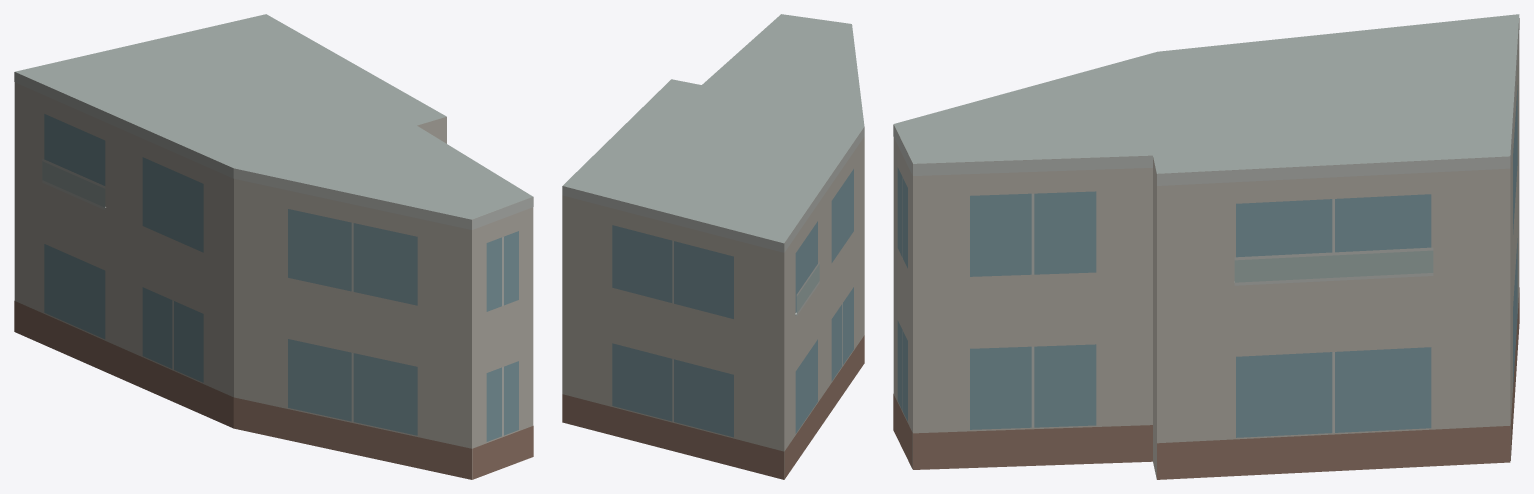
File: survey-upis-32728674.glb
3 renders of one model, left to right at view 1: azimuth 30°, elevation 25°; view 2: azimuth 150°, elevation 25°; view 3: azimuth 270°, elevation 25°, orthographic. The views are drawn at different scales.
Parts seen in each view (by area): view 1: survey-upis-32728674.tmp; view 2: survey-upis-32728674.tmp; view 3: survey-upis-32728674.tmp.
Boxes of the visible parts, x1,y1,x2,y2 form: survey-upis-32728674.tmp: (14, 14, 533, 479); survey-upis-32728674.tmp: (562, 14, 864, 479); survey-upis-32728674.tmp: (893, 14, 1519, 479).
Bounding box in the file's own units: 6.84 × 6.1 × 11.32.
